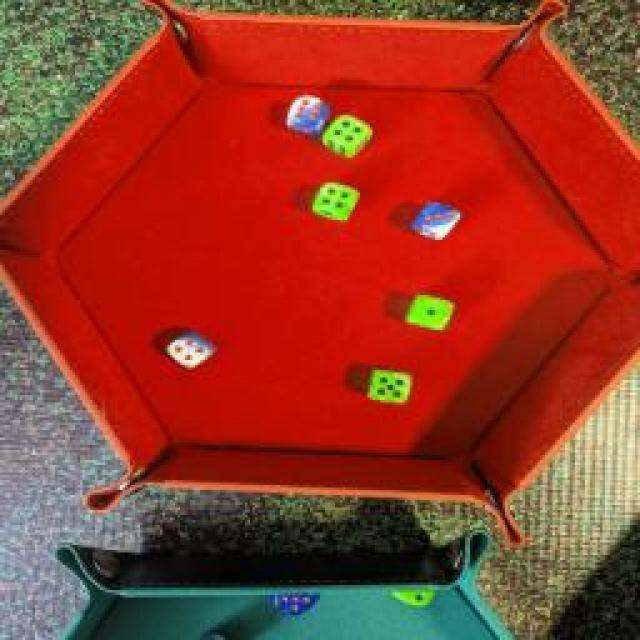dice_1: (399, 292, 459, 332)
dice_3: (408, 198, 468, 244)
dice_4: (166, 325, 222, 370), (308, 181, 364, 224), (322, 112, 378, 152)
dice_5: (359, 366, 419, 406)
dice_6: (284, 92, 328, 138)
